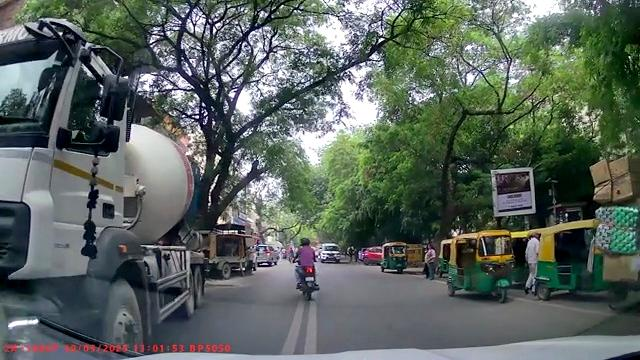motorcycle_with_helmet: (294, 237, 321, 300)
